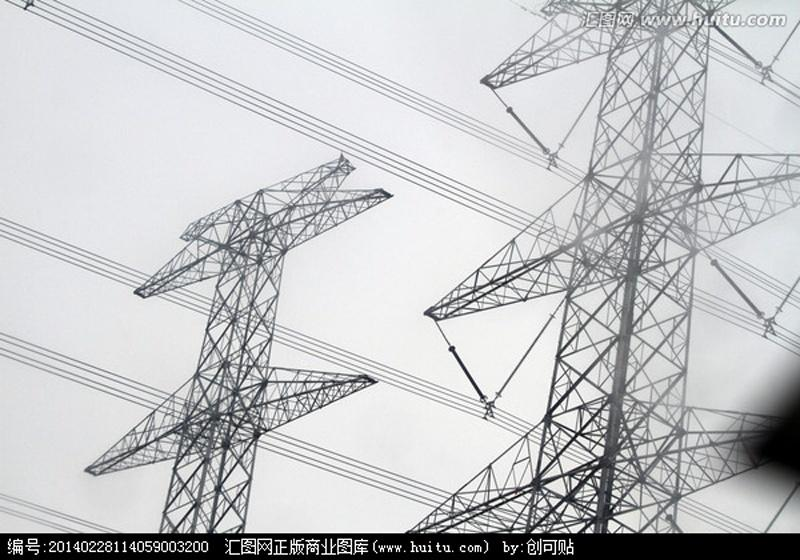power_tower: (477, 0, 755, 539), (141, 164, 357, 529)
